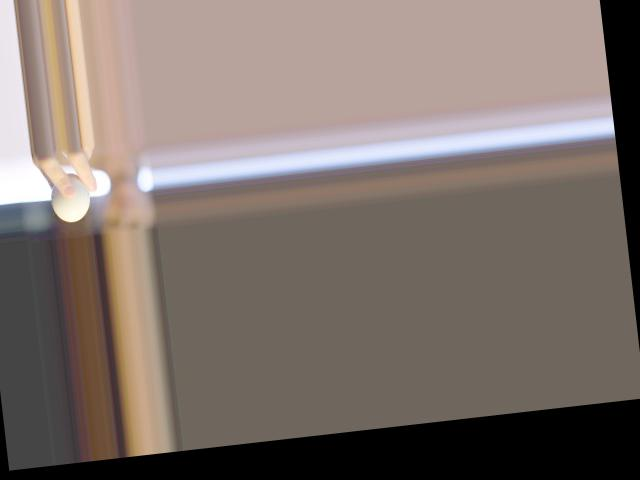egg: (49, 170, 93, 223)
